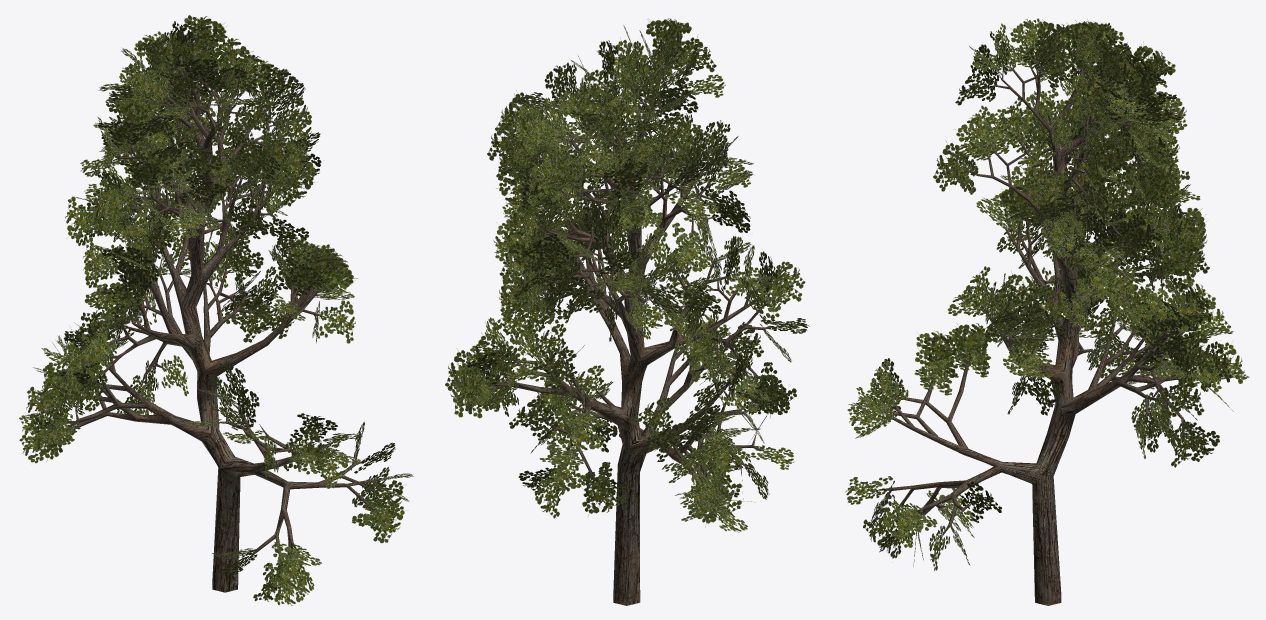
Rendered from tree-3-10.obj.
3 views of the same model, side by side, from view 1: azimuth 30°, elevation 25°; view 2: azimuth 150°, elevation 25°; view 3: azimuth 270°, elevation 25° (orthographic). The views are drawn at different scales.
Visible parts, largest first — view 1: Twig0, Tree0; view 2: Twig0, Tree0; view 3: Twig0, Tree0.
Part boxes in pixels (x1=…): Twig0: x1=19, y1=15, x2=413, y2=605; Tree0: x1=56, y1=61, x2=385, y2=592; Twig0: x1=445, y1=18, x2=809, y2=532; Tree0: x1=484, y1=63, x2=776, y2=605; Twig0: x1=845, y1=18, x2=1249, y2=570; Tree0: x1=873, y1=59, x2=1201, y2=605.
Bounding box in the file's own units: 3.85 × 6.74 × 4.4.
2 materials, 2 textured.
